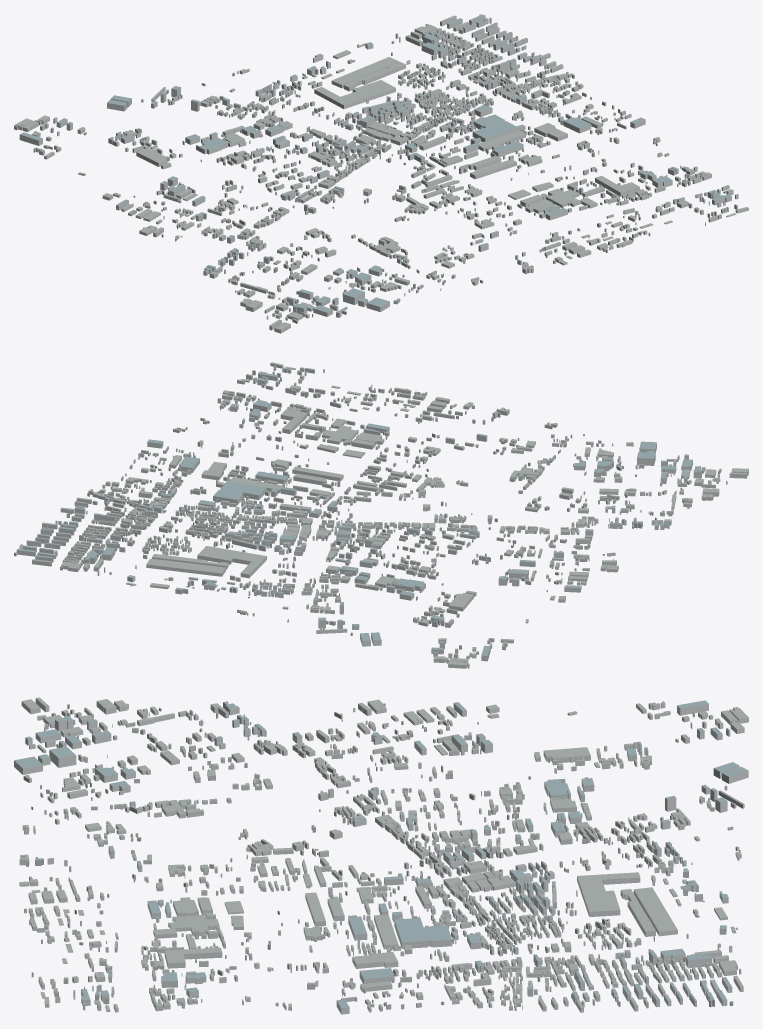
The picture shows the model from 3 angles, top to bottom: view 1: azimuth 30°, elevation 25°; view 2: azimuth 150°, elevation 25°; view 3: azimuth 270°, elevation 25°; orthographic projection. The views are drawn at different scales.
Parts seen in each view (by area): view 1: 上海全域建筑分块 · mapped building neighborhood; view 2: 上海全域建筑分块 · mapped building neighborhood; view 3: 上海全域建筑分块 · mapped building neighborhood.
Part boxes in pixels (x1,y1,x2,y2): 上海全域建筑分块 · mapped building neighborhood: (14,14,748,333); 上海全域建筑分块 · mapped building neighborhood: (14,362,748,668); 上海全域建筑分块 · mapped building neighborhood: (14,697,748,1014).
Bounding box in the file's own units: 2163 × 39.73 × 2155.
